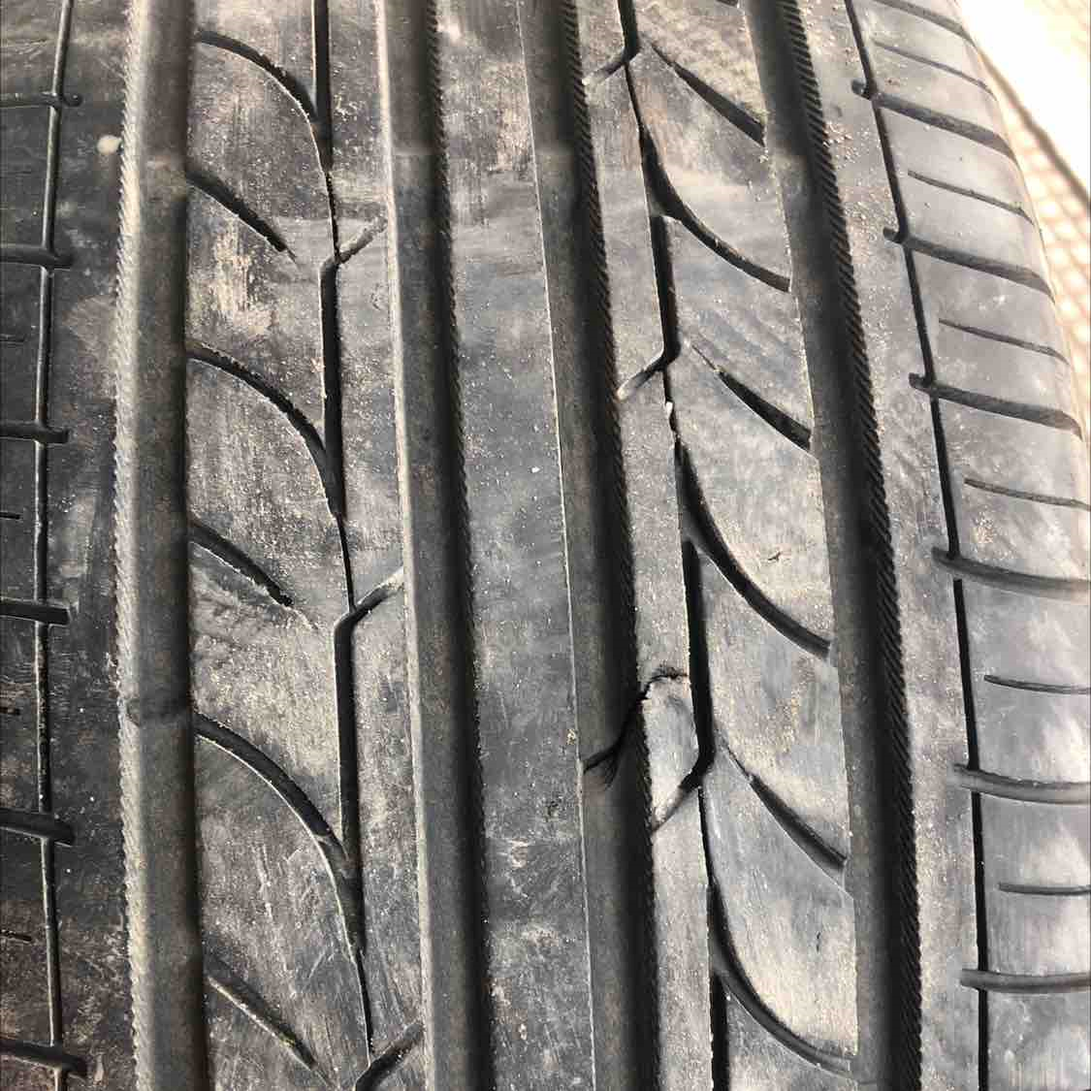tr: (562, 651, 700, 806)
